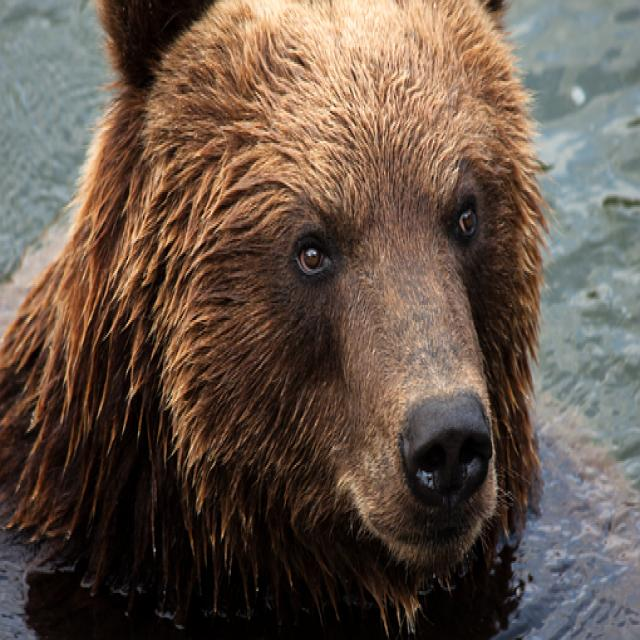Bear: (0, 0, 551, 640)
